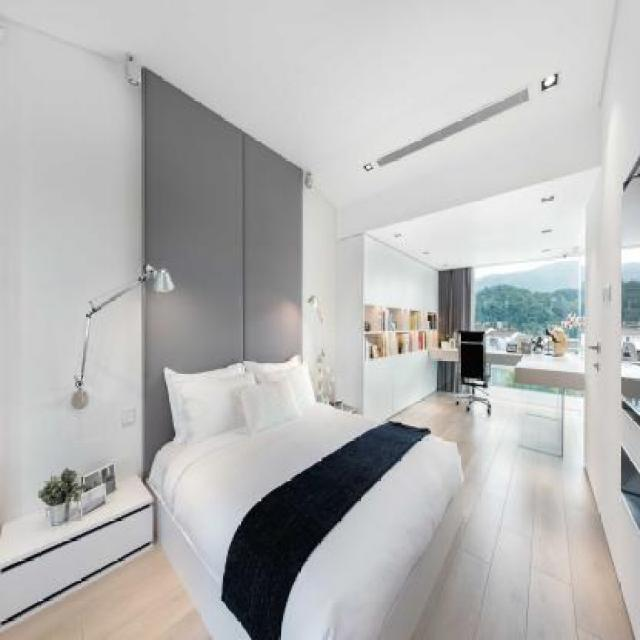Floor: (382, 392, 636, 640), (0, 536, 212, 638)
